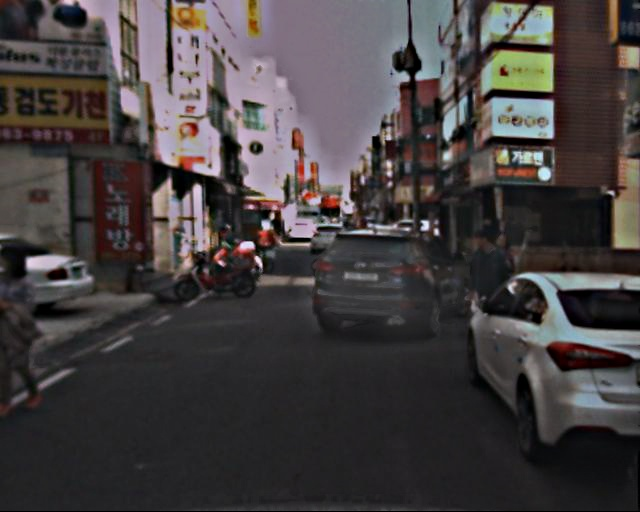person: (1, 238, 64, 404), (469, 225, 510, 343), (483, 227, 521, 334)
